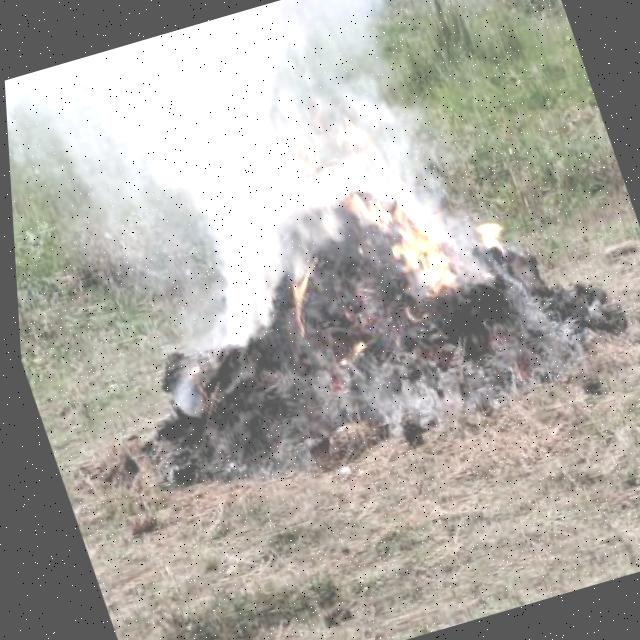Fire: (278, 105, 459, 320), (265, 248, 340, 342), (457, 197, 523, 275)
Smoke: (0, 0, 471, 398)
